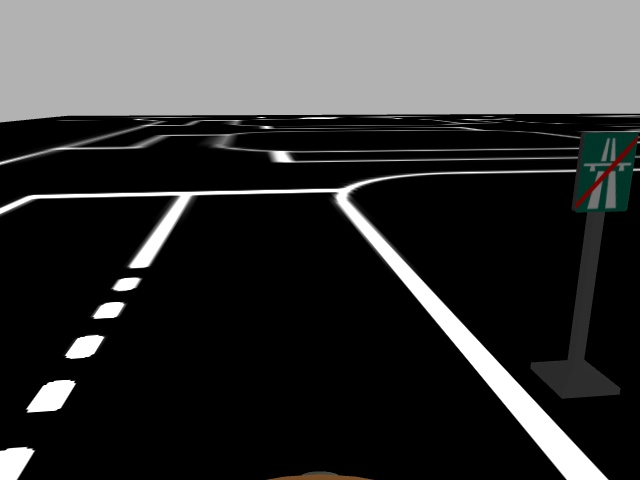leave_highway: (568, 128, 640, 216)
